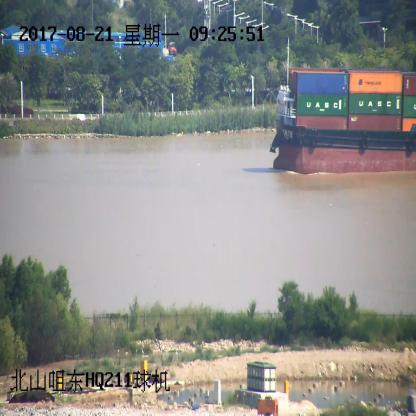Container Ship: (268, 39, 416, 174)
